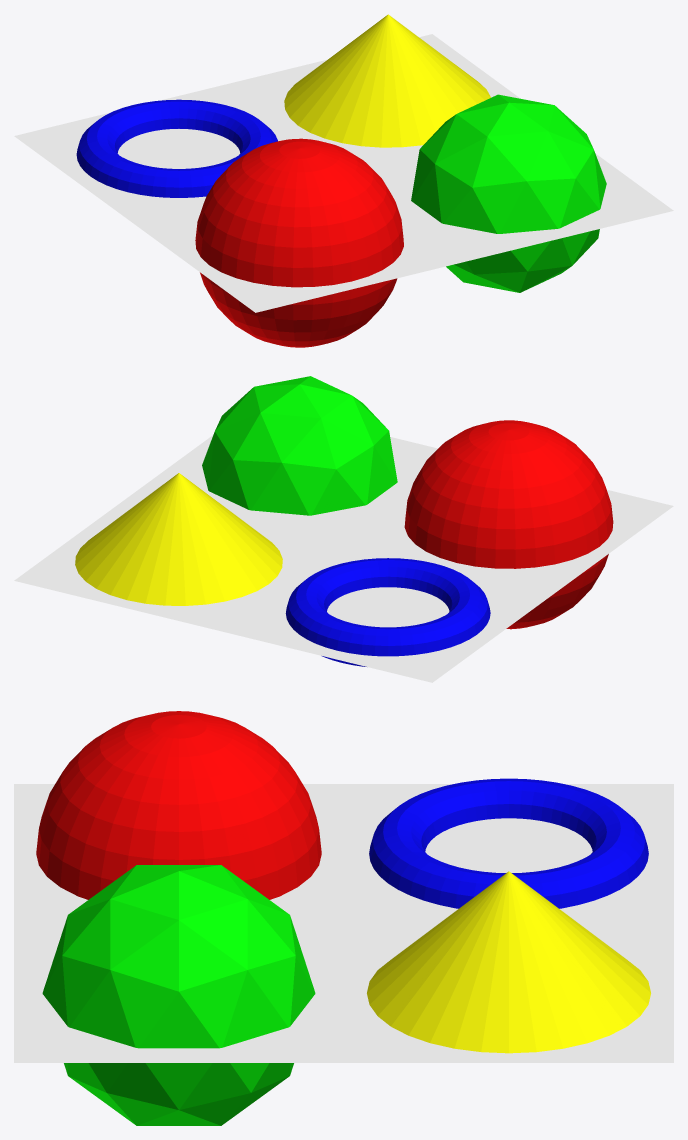
3 renders of one model, top to bottom at view 1: azimuth 30°, elevation 25°; view 2: azimuth 150°, elevation 25°; view 3: azimuth 270°, elevation 25°, orthographic. The views are drawn at different scales.
Visible parts, largest first — view 1: Sphere, Plane, Icosphere, Cone, Torus; view 2: Plane, Sphere, Icosphere, Cone, Torus; view 3: Plane, Icosphere, Sphere, Cone, Torus.
Boxes of the visible parts, x1,y1,x2,y2 form: Sphere: [195, 138, 403, 347]; Plane: [14, 34, 673, 312]; Icosphere: [411, 94, 606, 292]; Cone: [284, 14, 490, 147]; Torus: [76, 99, 277, 197]; Plane: [14, 435, 673, 682]; Sphere: [404, 420, 613, 629]; Icosphere: [202, 376, 397, 515]; Cone: [75, 473, 282, 605]; Torus: [285, 558, 490, 666]; Plane: [14, 784, 673, 1062]; Icosphere: [42, 865, 315, 1125]; Sphere: [36, 711, 321, 899]; Cone: [367, 871, 650, 1053]; Torus: [369, 778, 648, 908].
Size of the model in its own units: 8 by 3.46 by 8.
